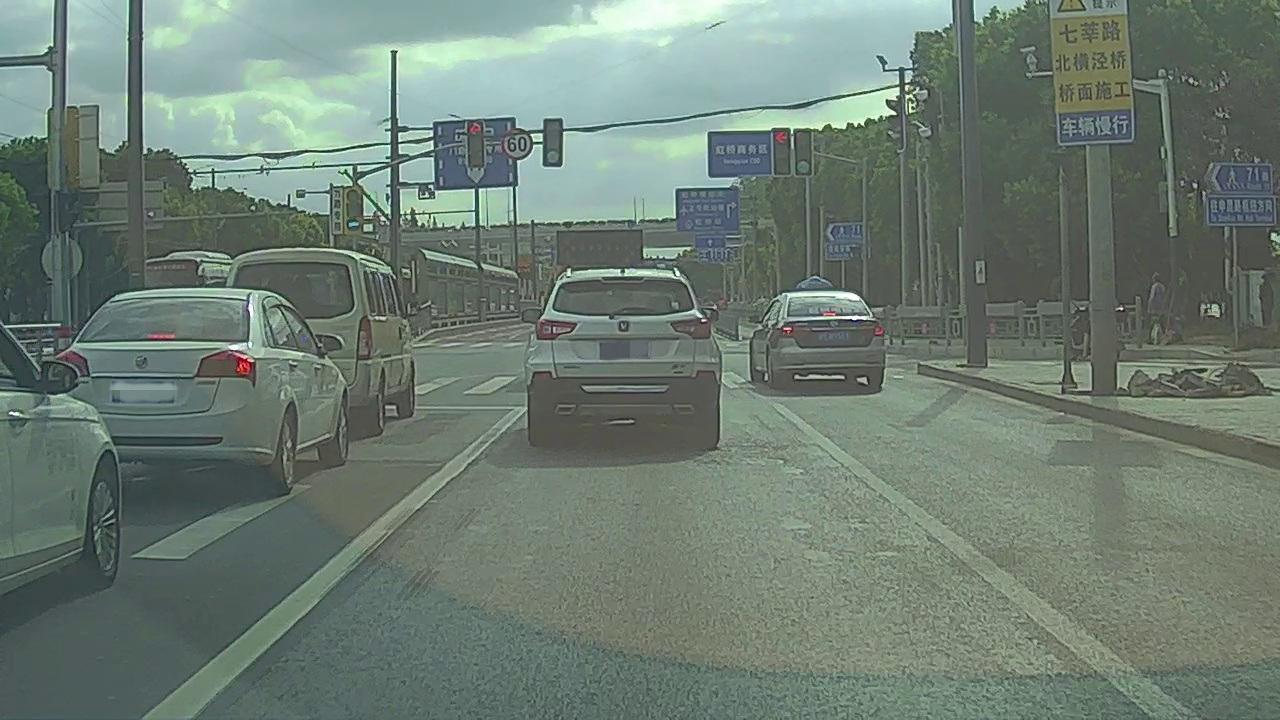traffic_light: (772, 127, 791, 176), (545, 118, 563, 167), (467, 121, 484, 166), (797, 128, 812, 176)
